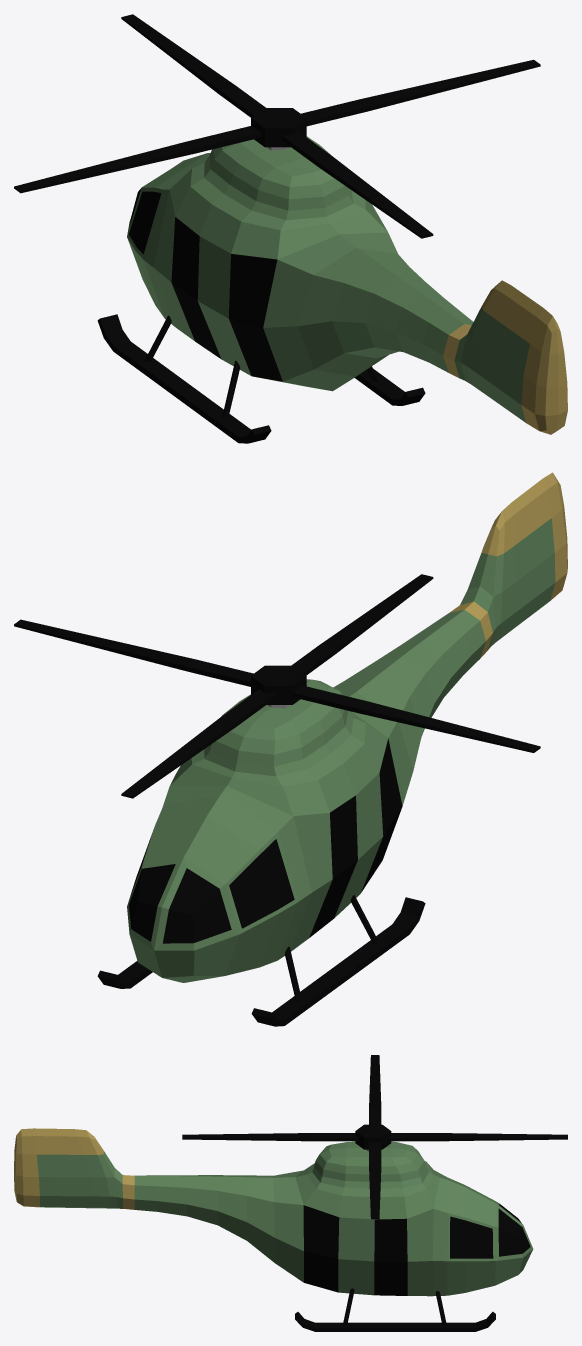
File: heli.fbx
3 renders of one model, top to bottom at view 1: azimuth 30°, elevation 25°; view 2: azimuth 150°, elevation 25°; view 3: azimuth 270°, elevation 25°, orthographic. The views are drawn at different scales.
Visible parts, largest first — view 1: Cube, Cylinder, Cube.001; view 2: Cube, Cylinder, Cube.001; view 3: Cube, Cylinder, Cube.001.
Boxes of the visible parts, <box> form: Cube: <box>127,136,567,434</box>; Cylinder: <box>14,14,540,238</box>; Cube.001: <box>97,314,425,443</box>; Cube: <box>127,472,567,982</box>; Cylinder: <box>14,574,540,798</box>; Cube.001: <box>97,895,425,1026</box>; Cube: <box>14,1128,533,1296</box>; Cylinder: <box>182,1055,567,1219</box>; Cube.001: <box>295,1288,495,1331</box>.
Size of the model in its own units: 1336 by 675 by 1920.
